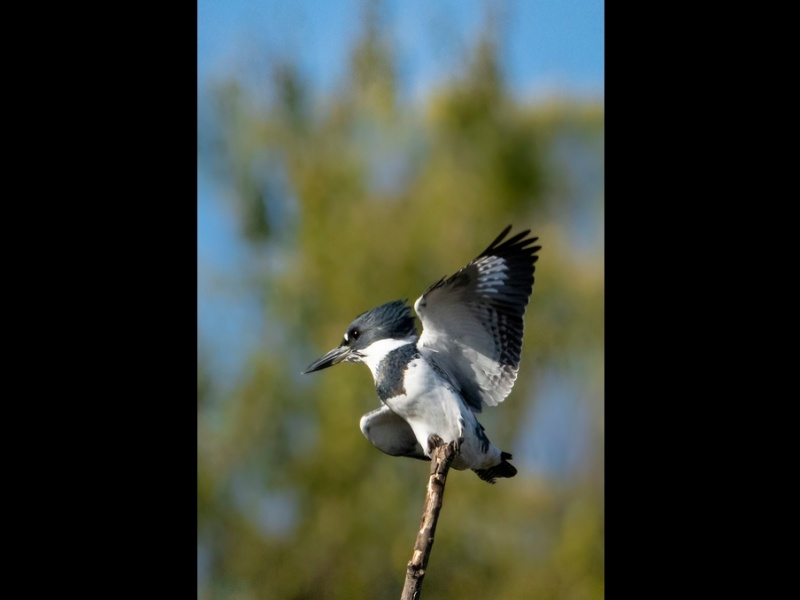kingfisher: (306, 223, 544, 487)
